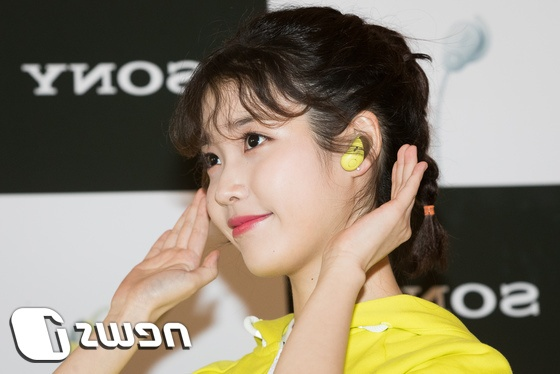earphone: (336, 110, 382, 178)
